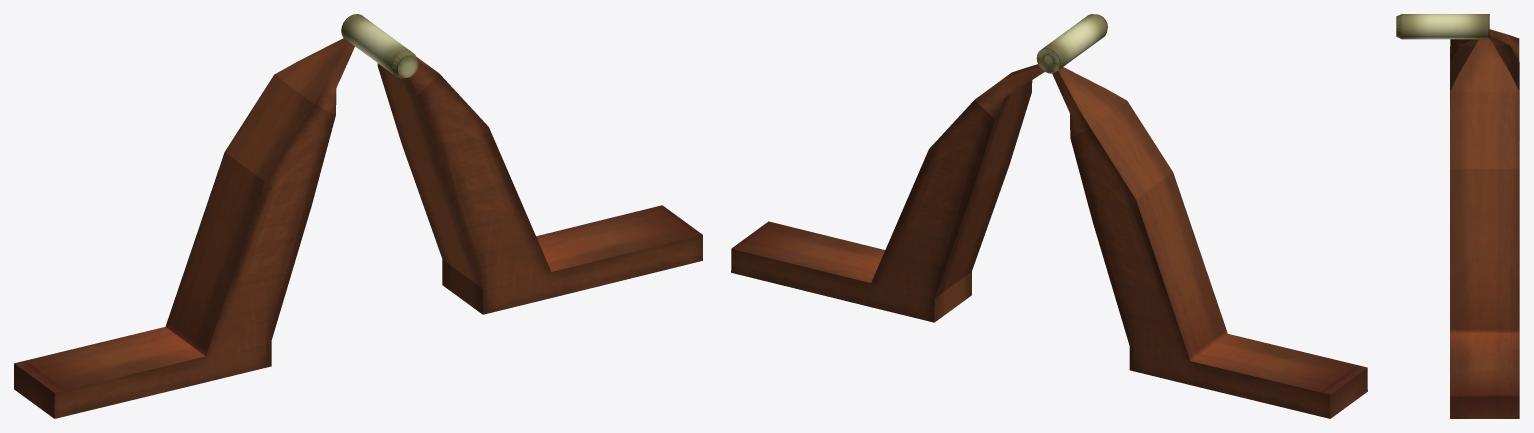
Rendered from shipWheelStand.FBX.
3 renders of one model, left to right at view 1: azimuth 30°, elevation 25°; view 2: azimuth 150°, elevation 25°; view 3: azimuth 270°, elevation 25°, orthographic. The views are drawn at different scales.
Parts seen in each view (by area): view 1: shipWheelStand; view 2: shipWheelStand; view 3: shipWheelStand.
Boxes of the visible parts, <box> form: shipWheelStand: <box>14,14,702,418</box>; shipWheelStand: <box>731,14,1367,418</box>; shipWheelStand: <box>1396,14,1519,418</box>.
Size of the model in its own units: 2246 by 1025 by 429.
